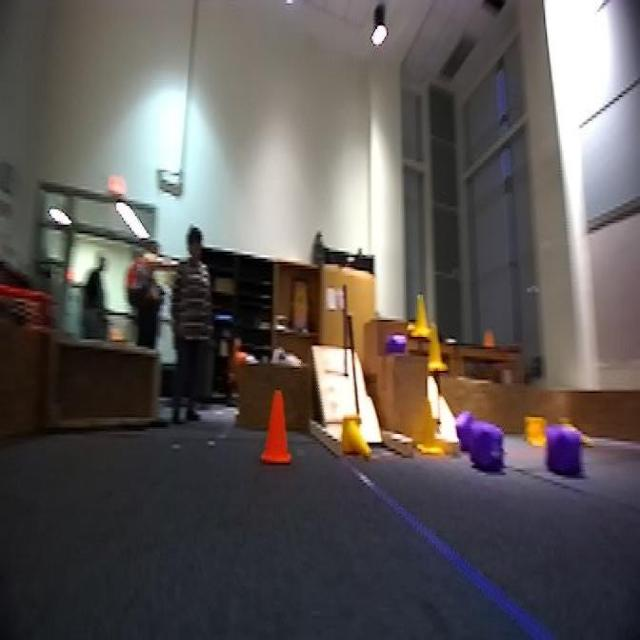frc_cone: (418, 395, 448, 456), (342, 414, 372, 461), (409, 293, 434, 340), (520, 412, 551, 446), (426, 323, 446, 373)
frc_cube: (546, 422, 586, 477), (468, 420, 504, 470), (451, 408, 476, 449), (383, 334, 407, 356)
